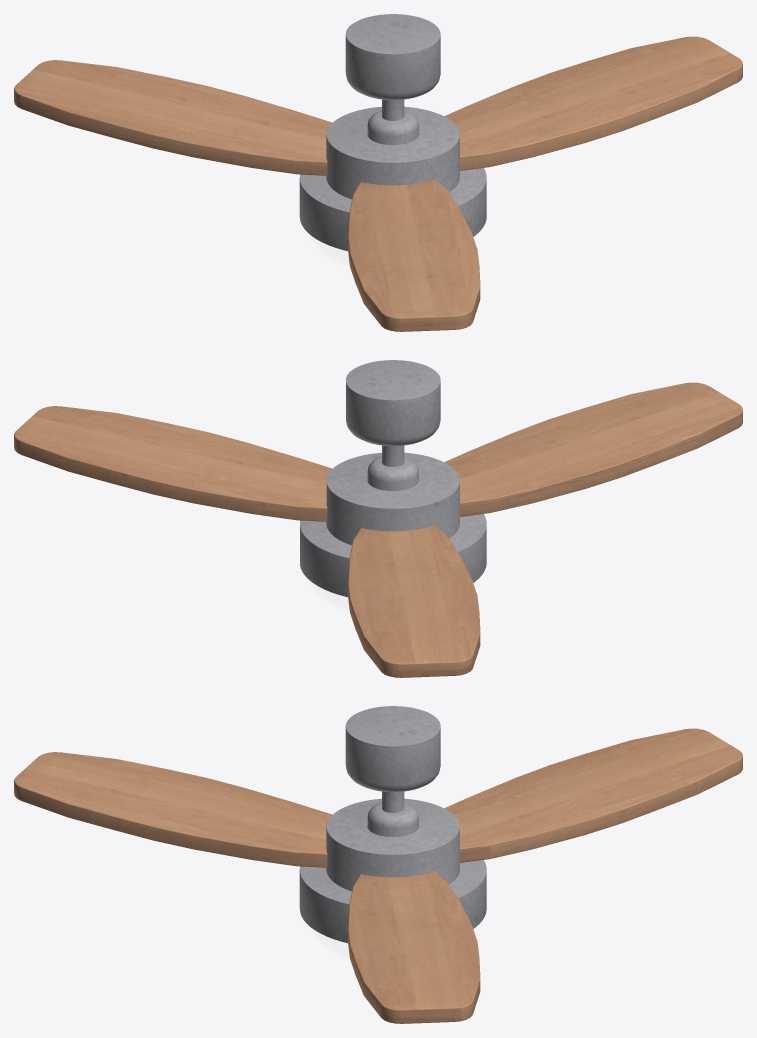
The model's file is Ventilador.glb.
3 renders of one model, top to bottom at view 1: azimuth 30°, elevation 25°; view 2: azimuth 150°, elevation 25°; view 3: azimuth 270°, elevation 25°, orthographic.
Parts seen in each view (by area): view 1: Ceiling Fan; view 2: Ceiling Fan; view 3: Ceiling Fan.
Boxes of the visible parts, left/top/right/bottom form: Ceiling Fan: left=14, top=14, right=742, bottom=331; Ceiling Fan: left=14, top=360, right=742, bottom=677; Ceiling Fan: left=14, top=706, right=742, bottom=1023.
Size of the model in its own units: 0.9641 by 0.3348 by 1.05.
3 materials, 2 textured.
